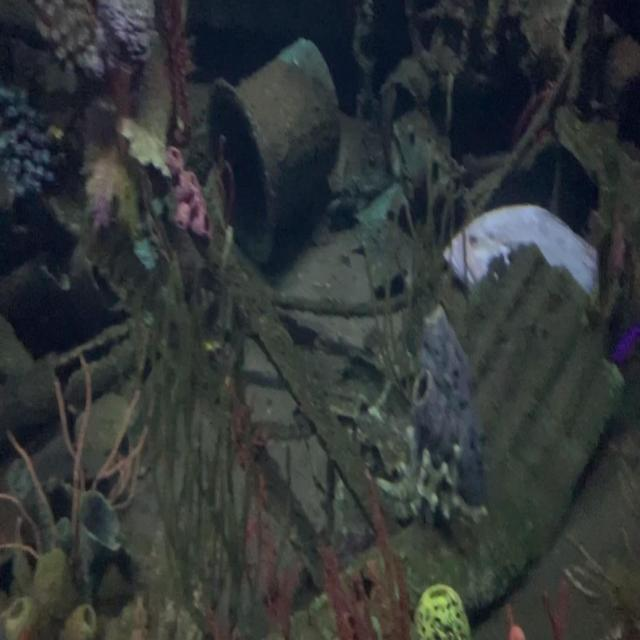fish: (442, 205, 601, 311)
